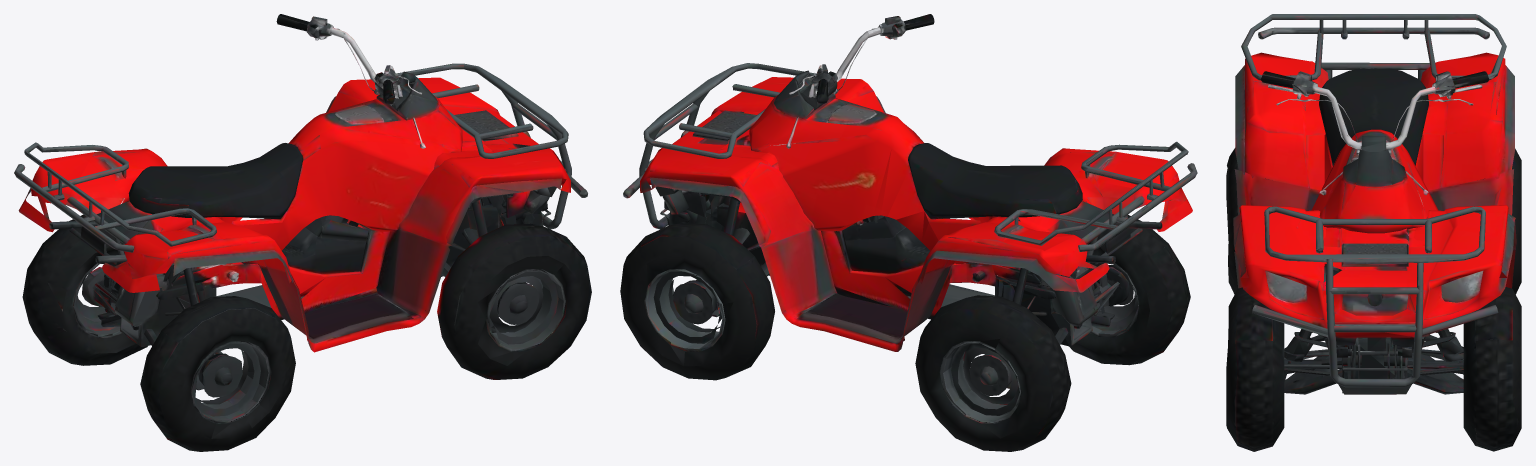
Rendered from atv.glb.
3 views of the same model, side by side, from view 1: azimuth 30°, elevation 25°; view 2: azimuth 150°, elevation 25°; view 3: azimuth 270°, elevation 25° (orthographic).
Parts seen in each view (by area): view 1: atv, wheel-0, wheel-3, wheel-2; view 2: atv, wheel-2, wheel-1, wheel-3; view 3: atv, wheel-1, wheel-0, wheel-3, wheel-2.
Boxes of the visible parts, x1,y1,x2,y2 form: atv: (14,14,587,390); wheel-0: (437,223,591,379); wheel-3: (140,296,295,451); wheel-2: (22,214,147,365); atv: (623,14,1197,388); wheel-2: (915,295,1071,451); wheel-1: (620,223,774,380); wheel-3: (1069,215,1190,365); atv: (1233,14,1516,394); wheel-1: (1463,287,1521,451); wheel-0: (1226,287,1284,451); wheel-3: (1226,148,1268,294); wheel-2: (1483,148,1521,294).
Size of the model in its own units: 2.1 by 1.3 by 1.09.
Materials: 1 (1 with a texture image).
